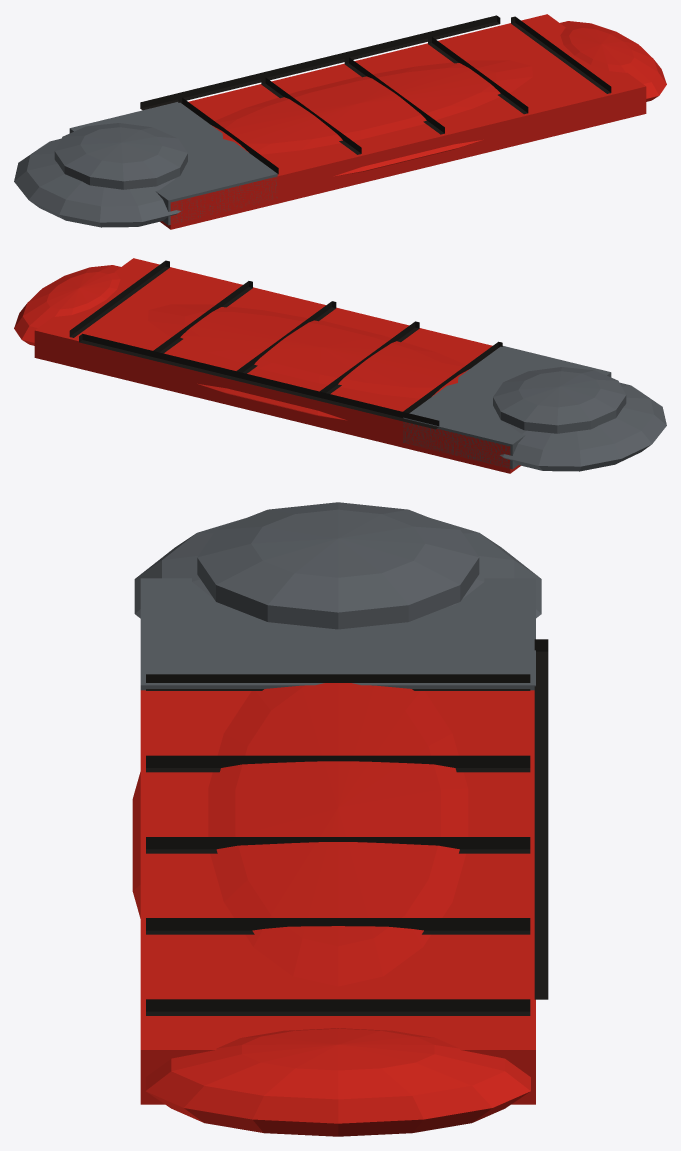
File: flat_sleeping_bag.obj
3 renders of one model, top to bottom at view 1: azimuth 30°, elevation 25°; view 2: azimuth 150°, elevation 25°; view 3: azimuth 270°, elevation 25°, orthographic. The views are drawn at different scales.
Parts seen in each view (by area): view 1: red_bag_flat_center, red_flat_bag_body, grey_head_panel, slight_pillow_lump, grey_hood_end, rounded_foot_end, side_zipper, quilt_seam_5, quilt_seam_4, quilt_seam_2, quilt_seam_3, quilt_seam_1; view 2: red_bag_flat_center, red_flat_bag_body, grey_head_panel, slight_pillow_lump, grey_hood_end, rounded_foot_end, side_zipper, quilt_seam_5, quilt_seam_4, quilt_seam_2, quilt_seam_3, quilt_seam_1; view 3: red_bag_flat_center, red_flat_bag_body, rounded_foot_end, grey_head_panel, slight_pillow_lump, quilt_seam_5, side_zipper, quilt_seam_4, quilt_seam_2, grey_hood_end, quilt_seam_3, quilt_seam_1.
Part boxes in pixels (x1,y1,x2,y2): red_bag_flat_center: (160, 14, 646, 229); red_flat_bag_body: (211, 60, 532, 176); grey_head_panel: (69, 102, 277, 225); slight_pillow_lump: (54, 123, 187, 189); grey_hood_end: (14, 138, 180, 227); rounded_foot_end: (560, 21, 666, 101); side_zipper: (140, 15, 500, 110); quilt_seam_5: (511, 16, 611, 93); quilt_seam_4: (428, 37, 528, 114); quilt_seam_2: (261, 77, 361, 154); quilt_seam_3: (344, 57, 444, 134); quilt_seam_1: (178, 97, 278, 174); red_bag_flat_center: (34, 258, 520, 473); red_flat_bag_body: (148, 304, 469, 420); grey_head_panel: (403, 346, 611, 469); slight_pillow_lump: (493, 367, 626, 433); grey_hood_end: (500, 382, 666, 471); rounded_foot_end: (14, 265, 120, 345); side_zipper: (79, 333, 439, 429); quilt_seam_5: (69, 260, 169, 337); quilt_seam_4: (153, 281, 252, 353); quilt_seam_2: (320, 321, 419, 393); quilt_seam_3: (236, 301, 336, 373); quilt_seam_1: (403, 341, 502, 413); red_bag_flat_center: (140, 690, 535, 1104); red_flat_bag_body: (132, 683, 468, 986); rounded_foot_end: (145, 1028, 530, 1136); grey_head_panel: (140, 578, 535, 690); slight_pillow_lump: (197, 502, 479, 629); quilt_seam_5: (146, 999, 530, 1015); side_zipper: (534, 639, 548, 999); quilt_seam_4: (146, 918, 530, 934); quilt_seam_2: (146, 755, 530, 772); grey_hood_end: (134, 518, 541, 618); quilt_seam_3: (146, 837, 530, 853); quilt_seam_1: (146, 674, 530, 690).
Size of the model in its own units: 2.59 by 0.225 by 0.7567.
